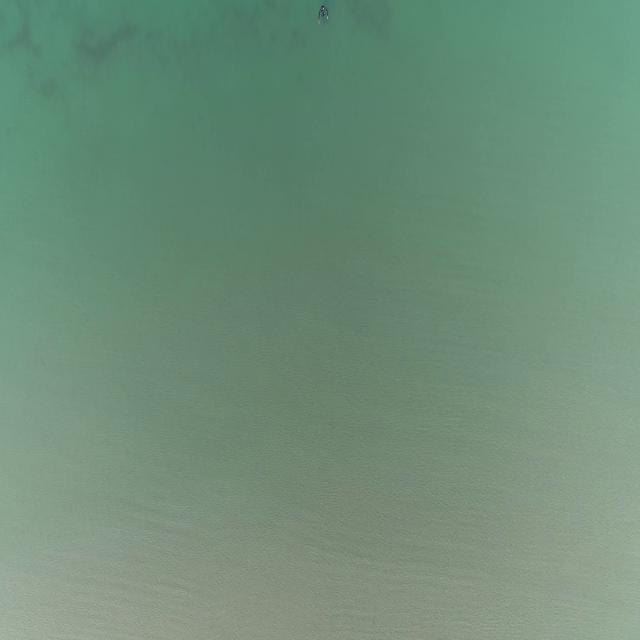person: (318, 4, 330, 23)
